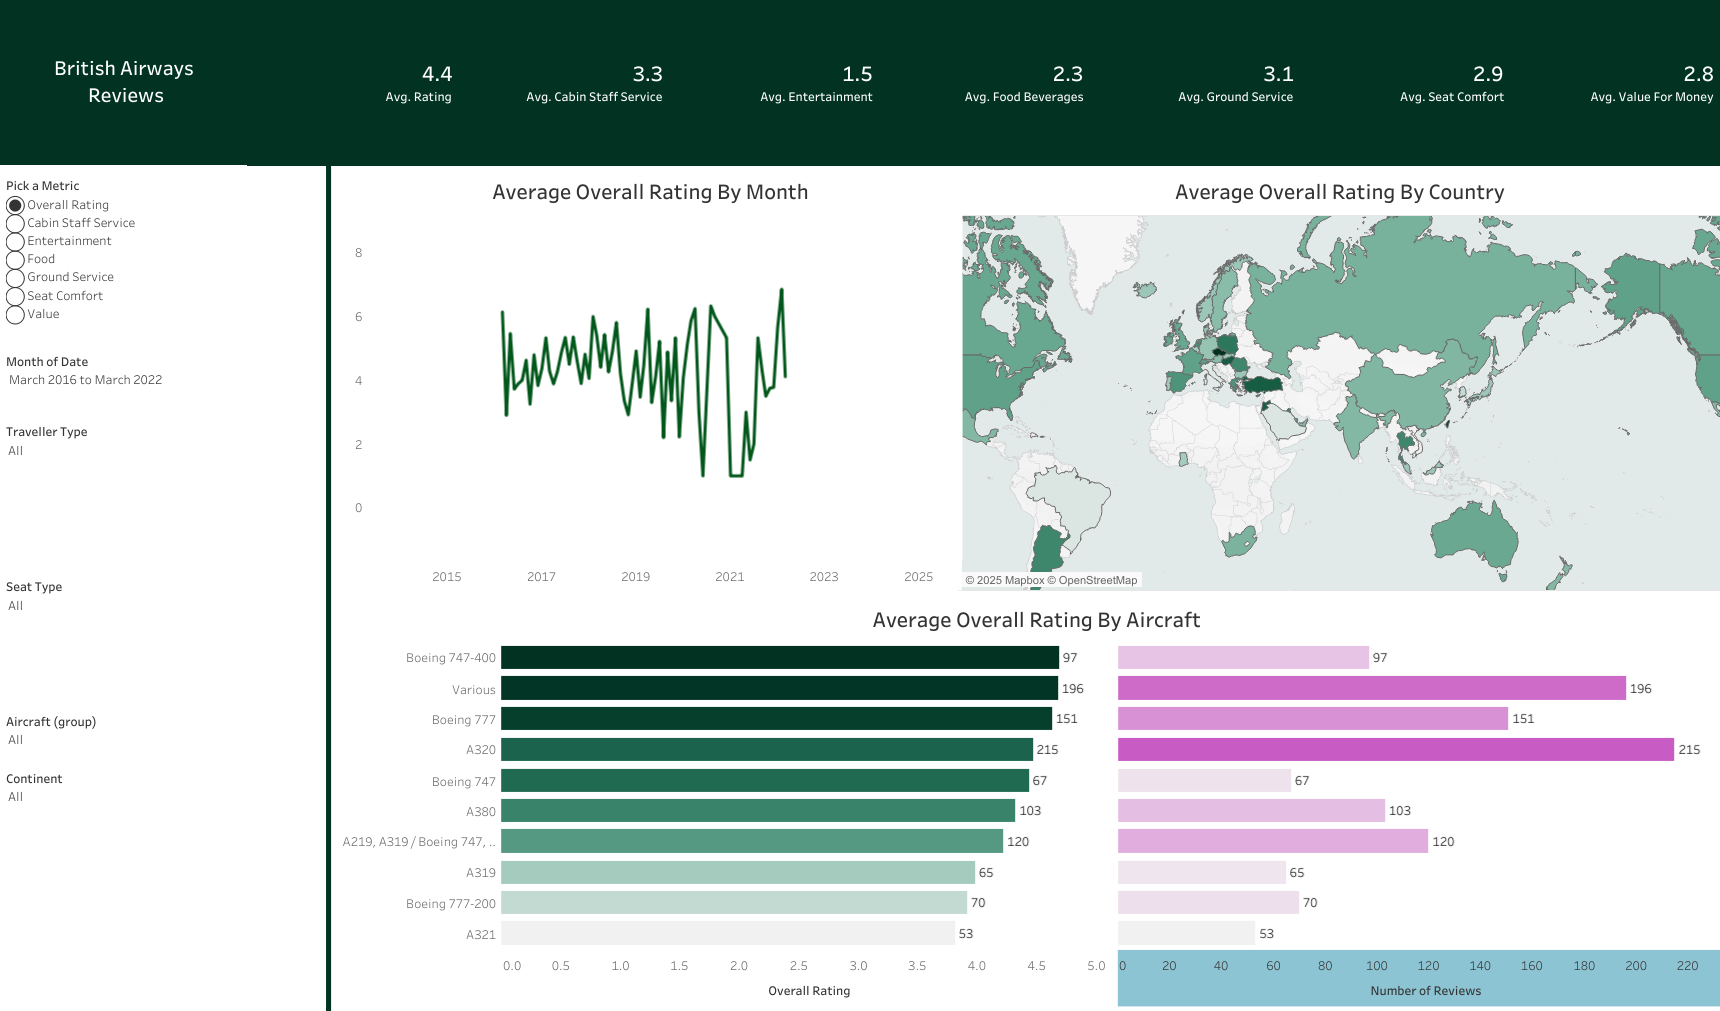

Layout of this report page (visuals, bound fields, positions):
{"tool":"tableau","page":{"name":"British Airways Reviews","canvas":[1700,1000],"ordinal":0},"visuals":[{"type":"worksheet","title":"Summary","mark":"Automatic","box":[244.4,0,1453.5,162.9]},{"type":"parameter","param":"[Parameters].[Parameter 1]","box":[2,169,319,229]},{"type":"worksheet","title":"Month","mark":"Automatic","rows":["Calculation_416020056961875968"],"cols":["date"],"box":[335,169,615,414]},{"type":"worksheet","title":"Map","mark":"Automatic","box":[946,169,755,415]},{"type":"filter","title":"Map","param":"[federated.00dmj9i1fi8t5m12bgm0n19b4k46].[tmn:date:qk]","box":[2,398,319,77]},{"type":"filter","title":"Map","param":"[federated.00dmj9i1fi8t5m12bgm0n19b4k46].[none:traveller_type:nk]","box":[2,475,319,202]},{"type":"filter","title":"Map","param":"[federated.00dmj9i1fi8t5m12bgm0n19b4k46].[none:seat_type:nk]","box":[2,677,319,175]},{"type":"filter","title":"Map","param":"[federated.00dmj9i1fi8t5m12bgm0n19b4k46].[Aircraft (group)]","box":[2,852,319,70]},{"type":"filter","title":"Map","param":"[federated.00dmj9i1fi8t5m12bgm0n19b4k46].[none:Continent:nk]","box":[2,922,319,70]}]}

Visuals, with their boxes in screenshot pixels (x1, y1, x2, y2), scaled from the page's 1700x1000 canvas onto the 1720x1011 screenshot:
"Summary" worksheet: box(247, 0, 1718, 165)
parameter: box(2, 171, 325, 402)
"Month" worksheet: box(339, 171, 961, 589)
"Map" worksheet: box(957, 171, 1719, 590)
"Map" filter: box(2, 402, 325, 480)
"Map" filter: box(2, 480, 325, 684)
"Map" filter: box(2, 684, 325, 861)
"Map" filter: box(2, 861, 325, 932)
"Map" filter: box(2, 932, 325, 1003)
